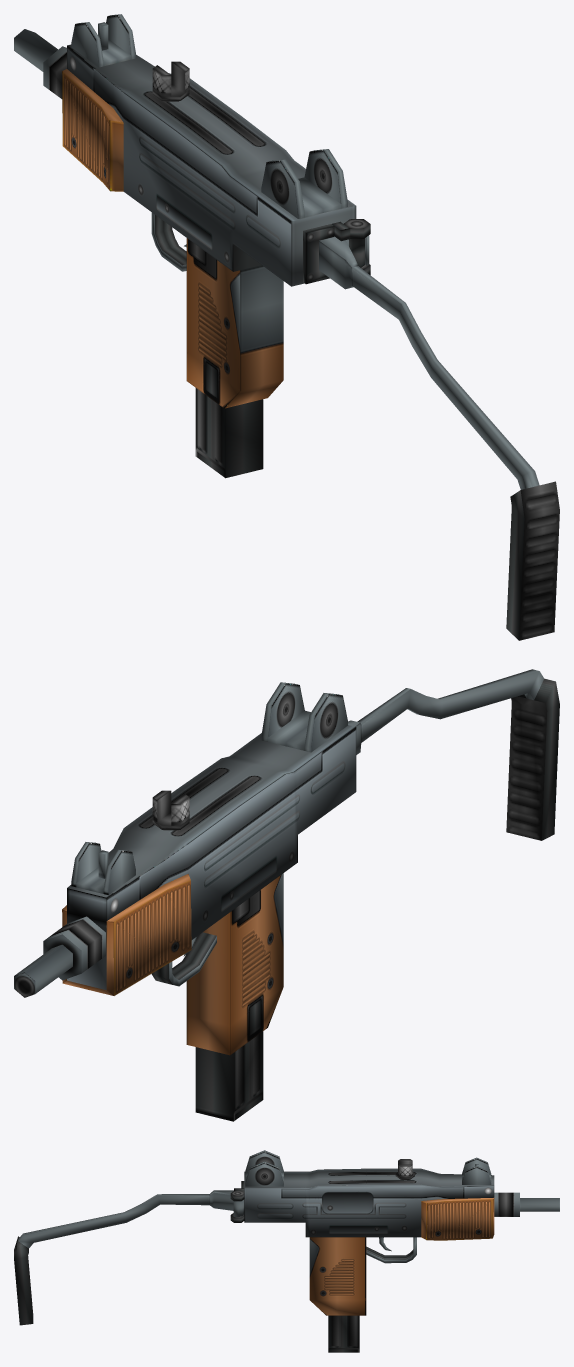
Rendered from uzi.glb.
3 views of the same model, one above another, from view 1: azimuth 30°, elevation 25°; view 2: azimuth 150°, elevation 25°; view 3: azimuth 270°, elevation 25° (orthographic). The views are drawn at different scales.
Parts seen in each view (by area): view 1: body, mover_bolt; view 2: body, mover_bolt; view 3: body, mover_bolt.
Part boxes in pixels (x1,y1,x2,y2): body: (14, 14, 559, 640); mover_bolt: (152, 61, 189, 101); body: (14, 669, 559, 1121); mover_bolt: (152, 790, 189, 830); body: (14, 1150, 559, 1352); mover_bolt: (395, 1159, 414, 1179).
Size of the model in its own units: 0.0472 by 0.2012 by 0.52.
1 material, 1 textured.
